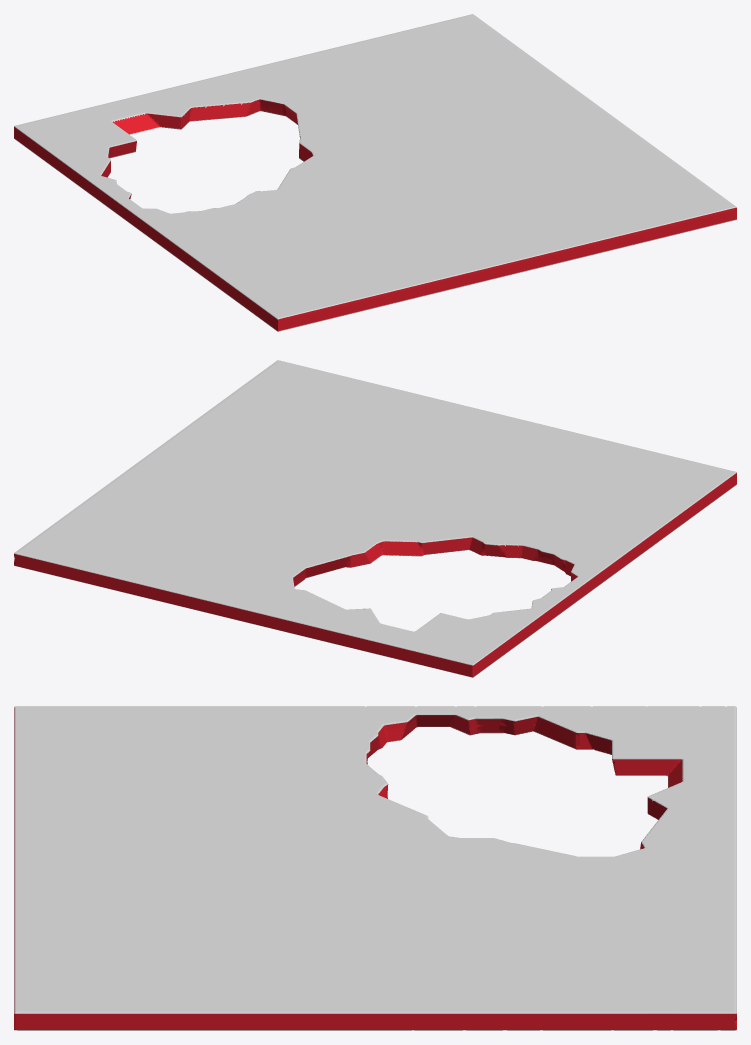
Rendered from RoofDebris.fbx.
3 views of the same model, one above another, from view 1: azimuth 30°, elevation 25°; view 2: azimuth 150°, elevation 25°; view 3: azimuth 270°, elevation 25° (orthographic). The views are drawn at different scales.
Parts seen in each view (by area): view 1: BrokenRoof; view 2: BrokenRoof; view 3: BrokenRoof.
Boxes of the visible parts, x1,y1,x2,y2 form: BrokenRoof: (14,14,736,331); BrokenRoof: (14,360,736,677); BrokenRoof: (14,706,736,1030).
Bounding box in the file's own units: 7354 × 200 × 7323.
